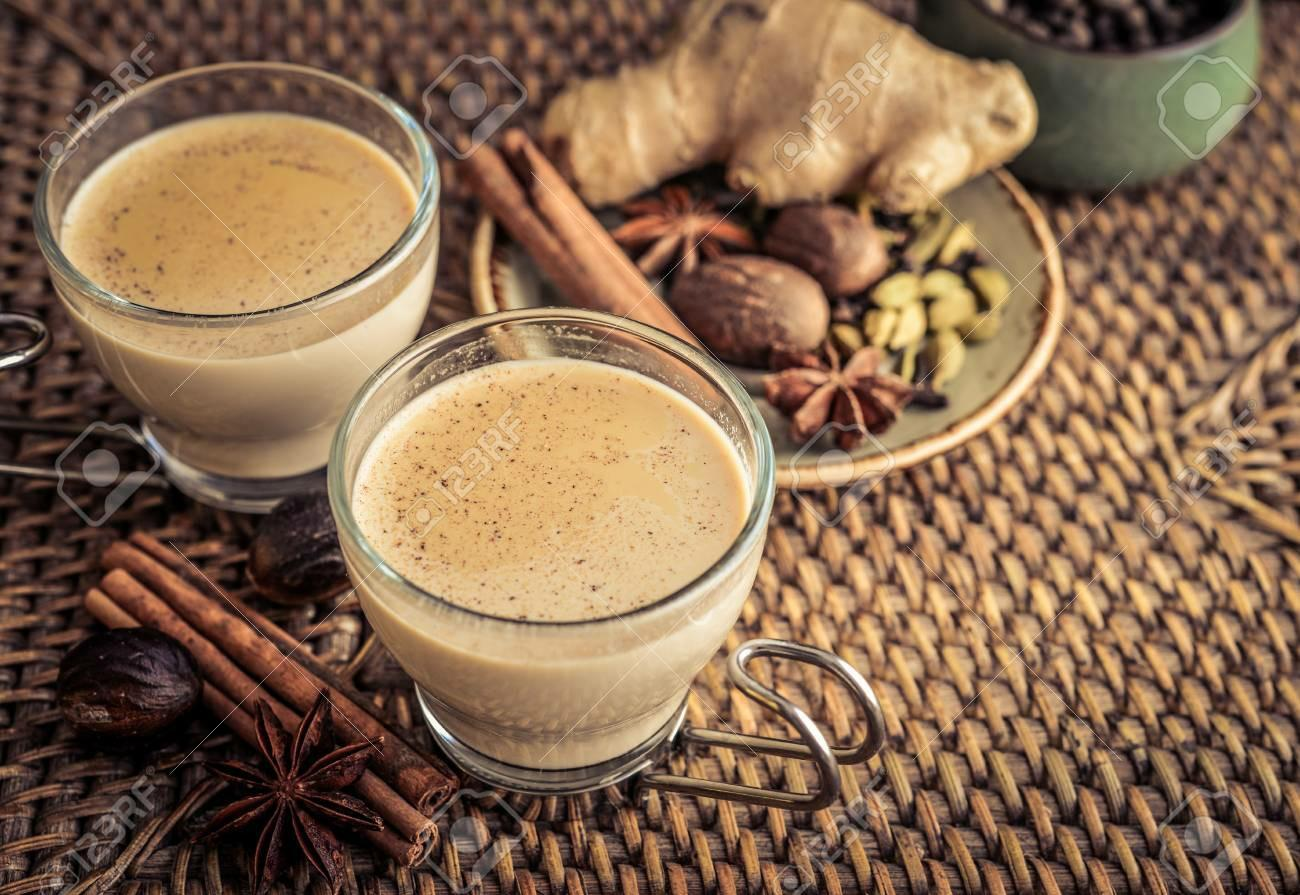Chai: (353, 356, 765, 763), (53, 121, 428, 479)
